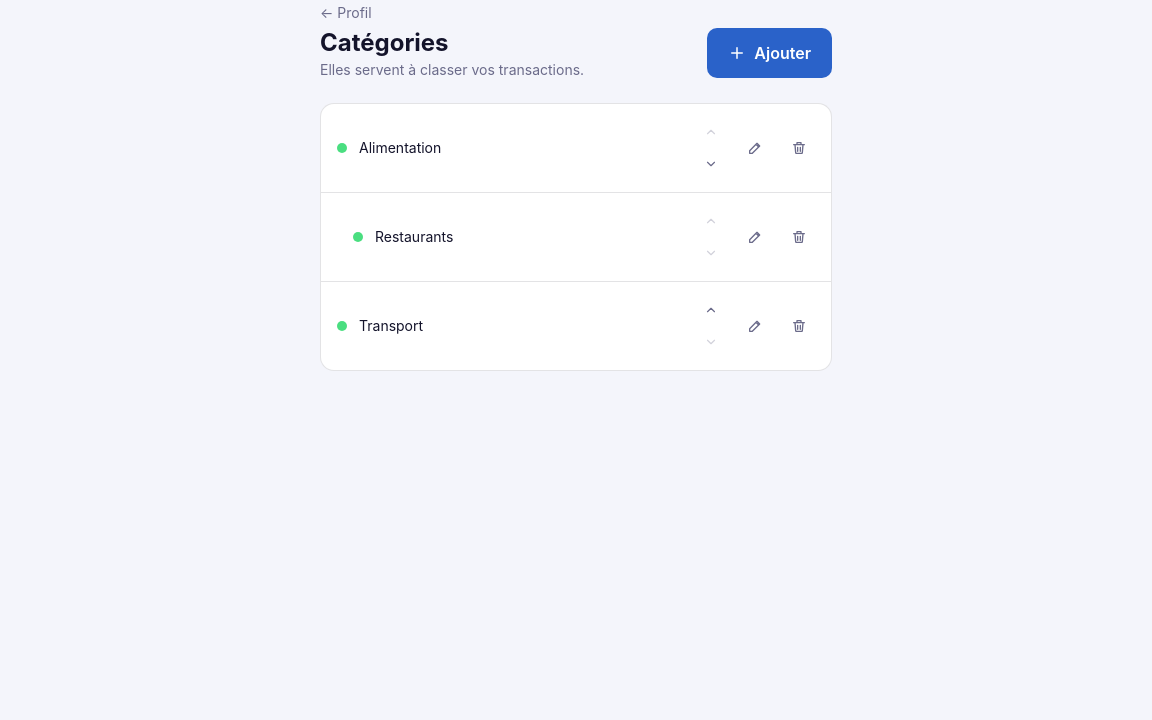
Test: CategoriesPage — suppression › annonce les transactions et sous-catégories concernées
Click the button named "Supprimer Alimentation": (799,148) [783,132,815,164]
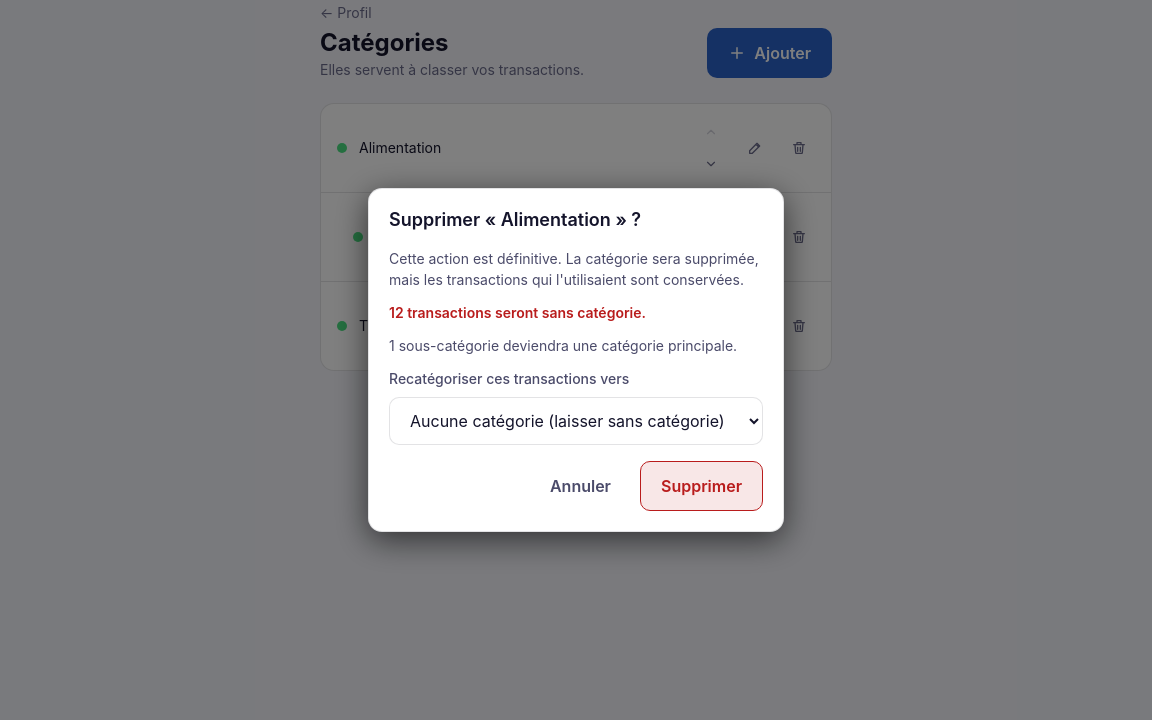
Expected: the dialog shows "Supprimer « Alimentation » ?", [389,209,641,230]
Expected: the dialog shows "12 transactions seront sans catégorie", [389,304,646,321]
Expected: the dialog shows "1 sous-catégorie deviendra une catégorie principale", [389,337,737,354]
